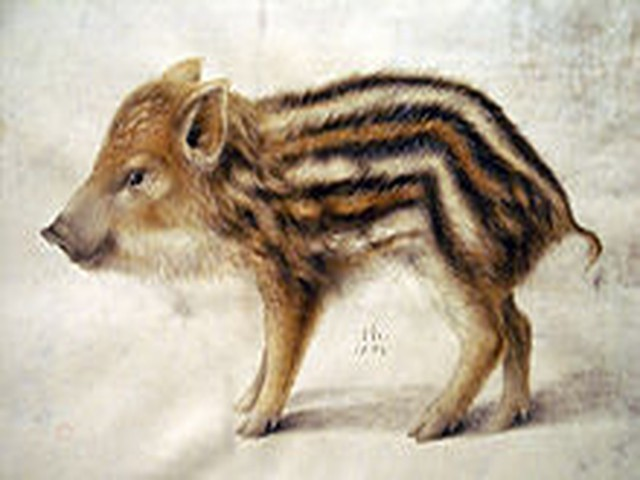Pig: (41, 55, 612, 441)
